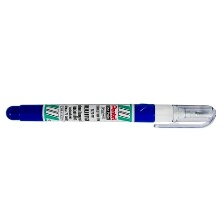correction_fluid: (3, 98, 218, 130)
